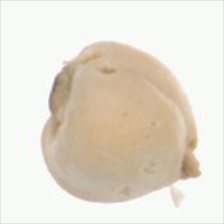L3: (173, 141, 205, 184)
L4: (41, 41, 204, 203)
